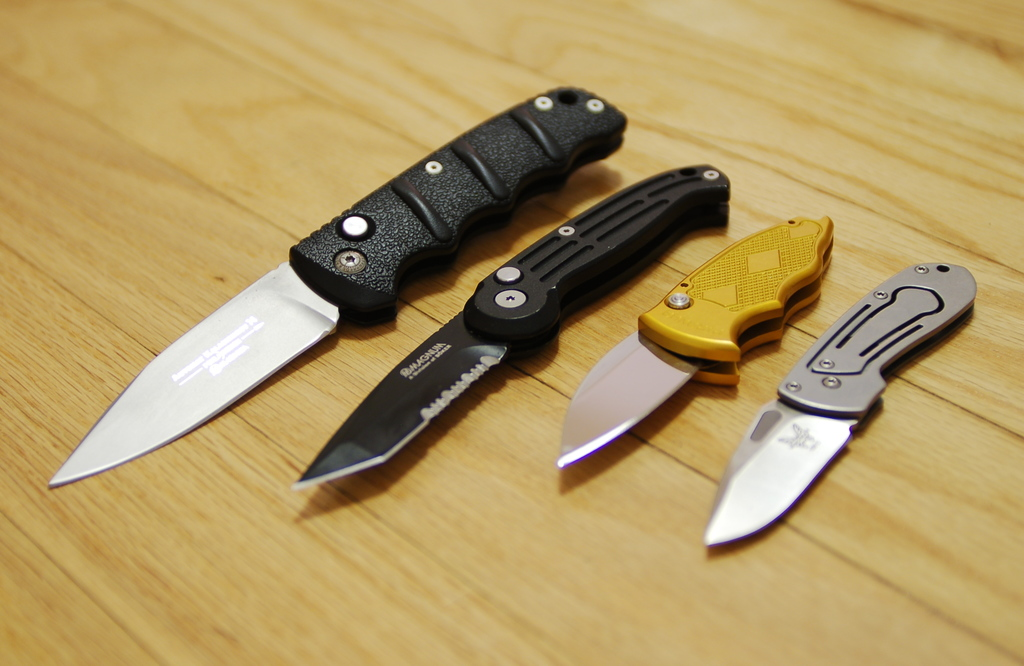kitchen knife: (44, 82, 628, 484), (287, 159, 728, 483), (705, 264, 976, 547), (556, 214, 832, 468)
